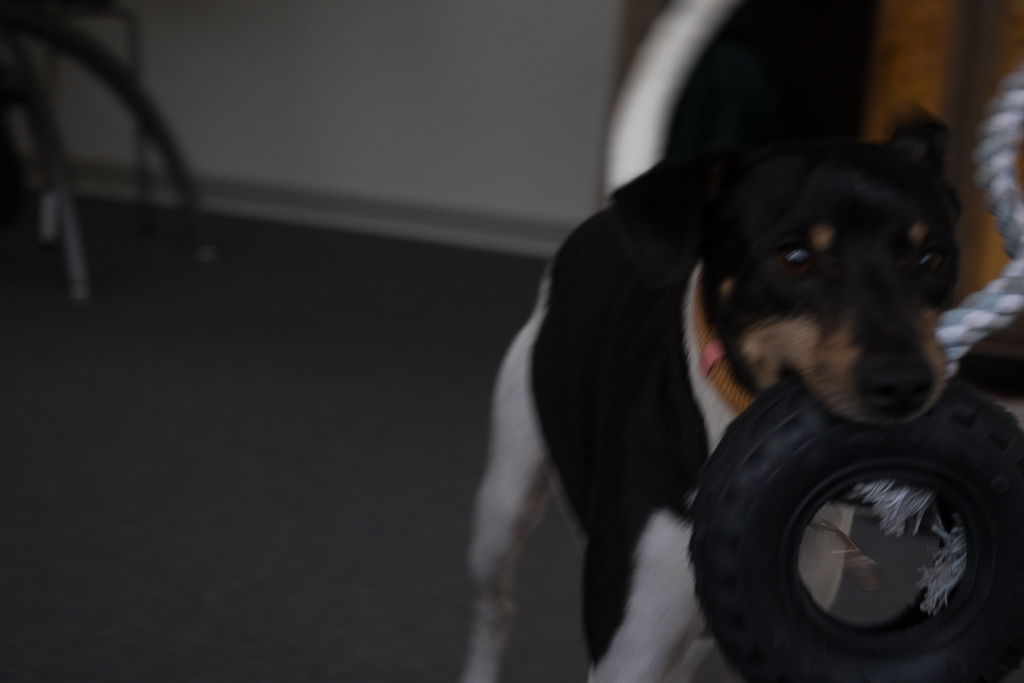Dog: (453, 0, 1024, 683)
